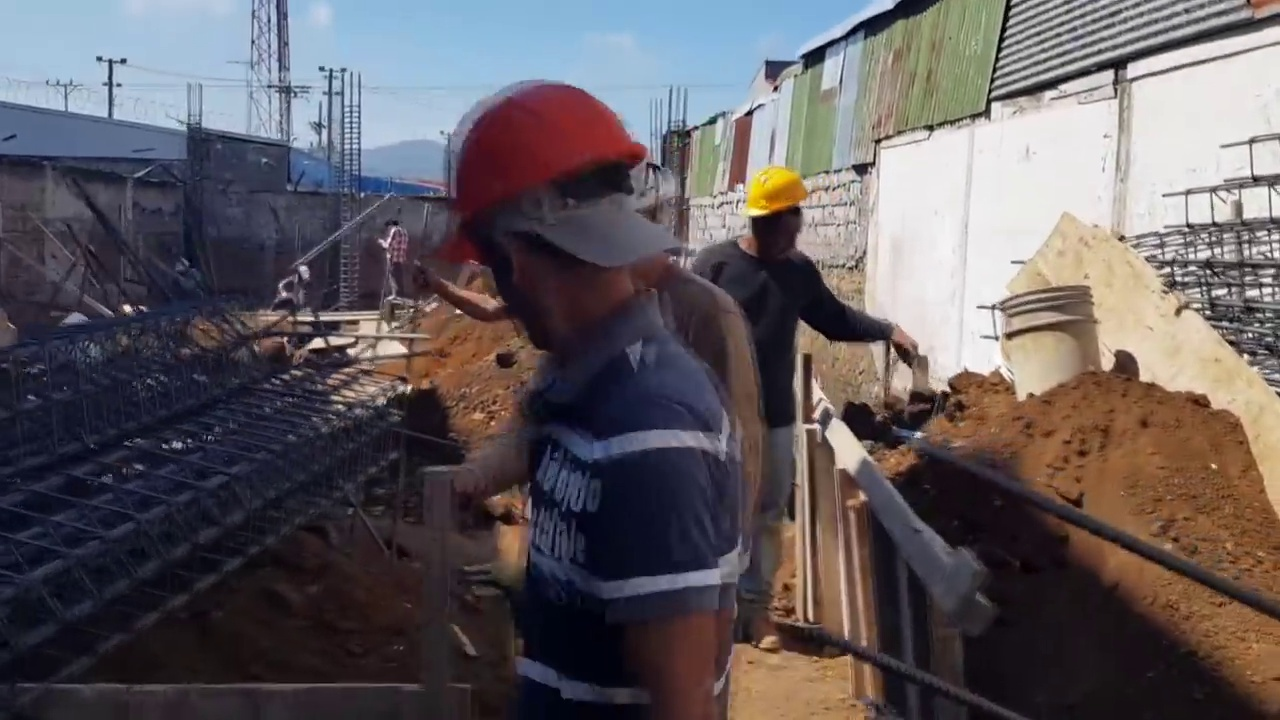helmet: (435, 83, 655, 235), (738, 166, 809, 222)
helmet-off: (385, 218, 400, 233)
helmet-on: (427, 82, 667, 347), (735, 166, 809, 260)
person: (427, 65, 748, 720), (700, 159, 919, 648), (374, 217, 409, 306)
